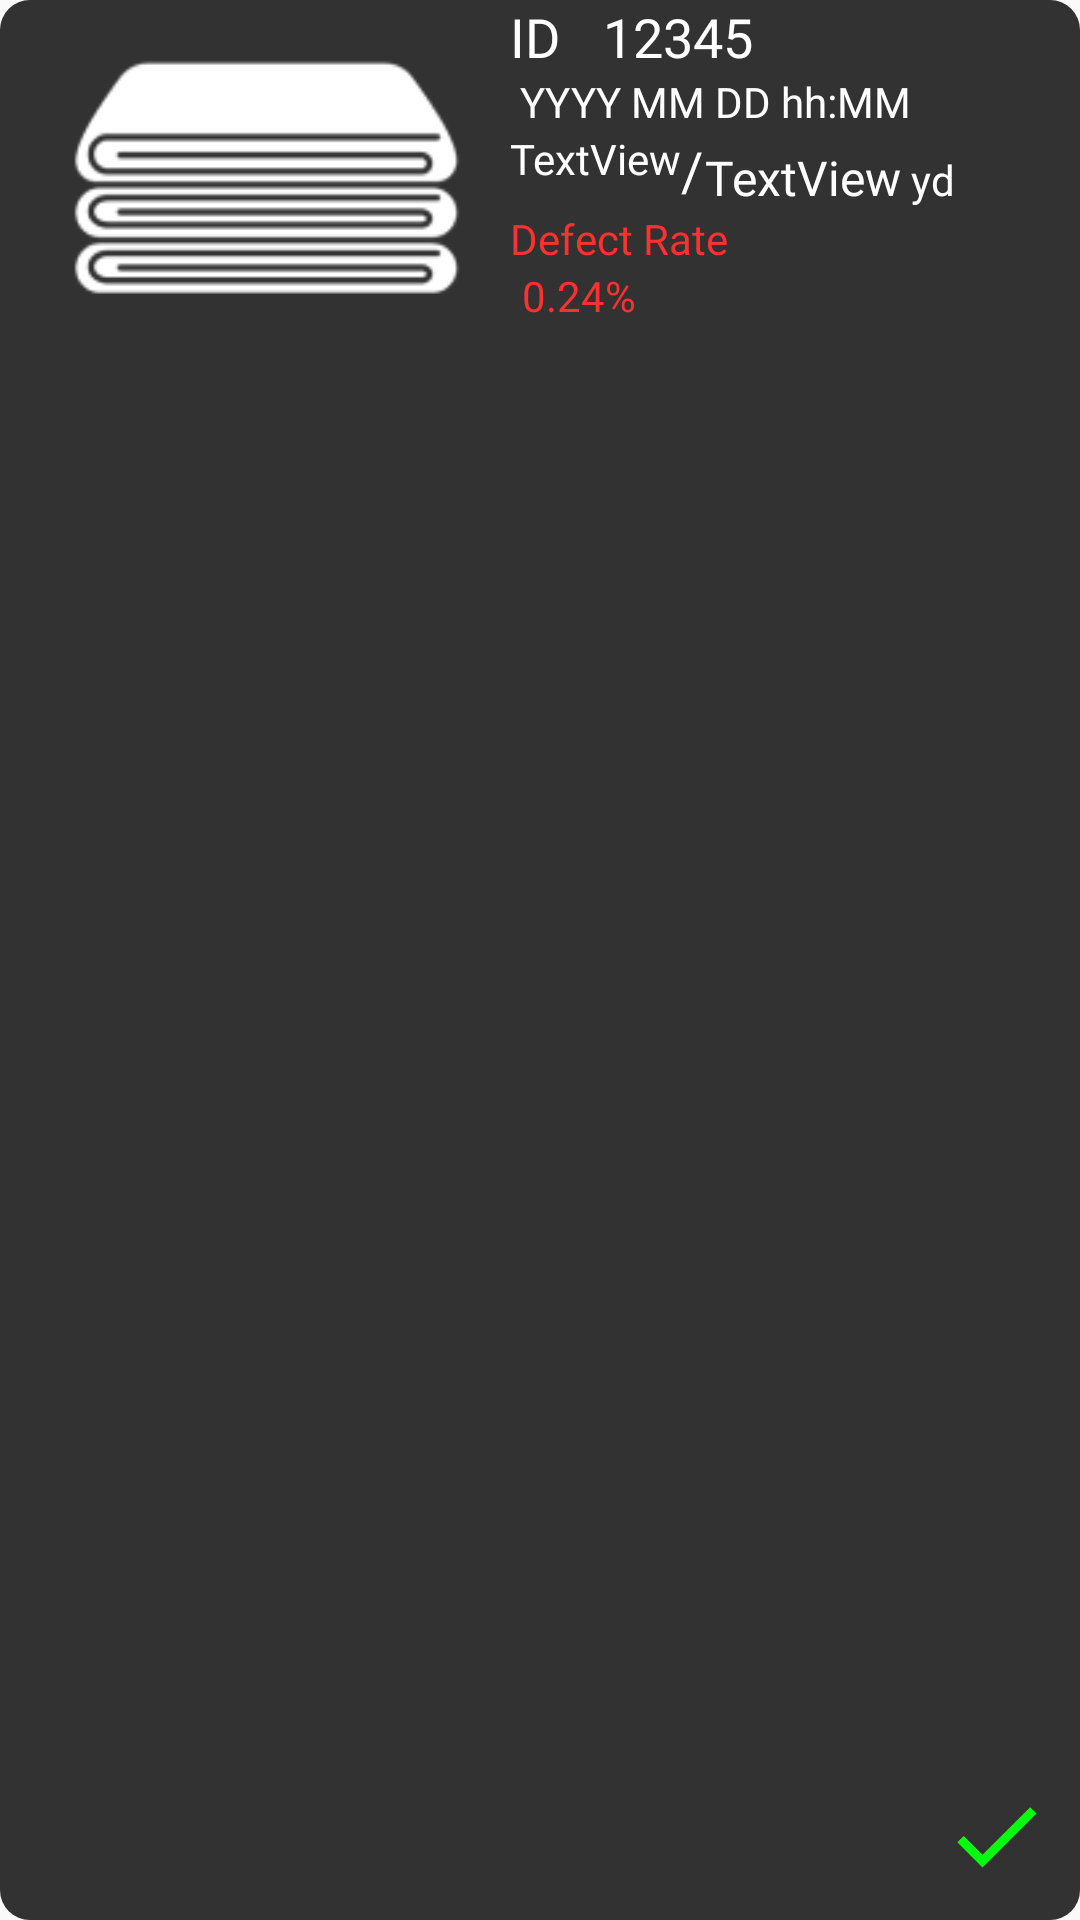

Locate icon controls on the screen. Image size 1080x1920, boxes as (x1, y1, x2, y2).
check: (957, 1807, 1037, 1868)
